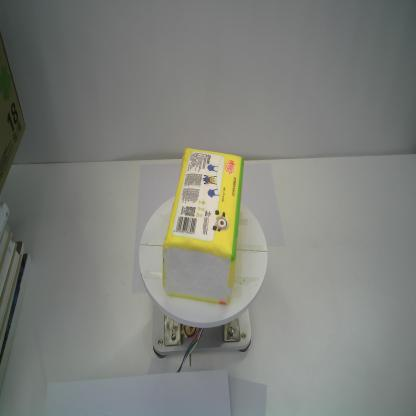Tissue: (162, 148, 245, 306)
